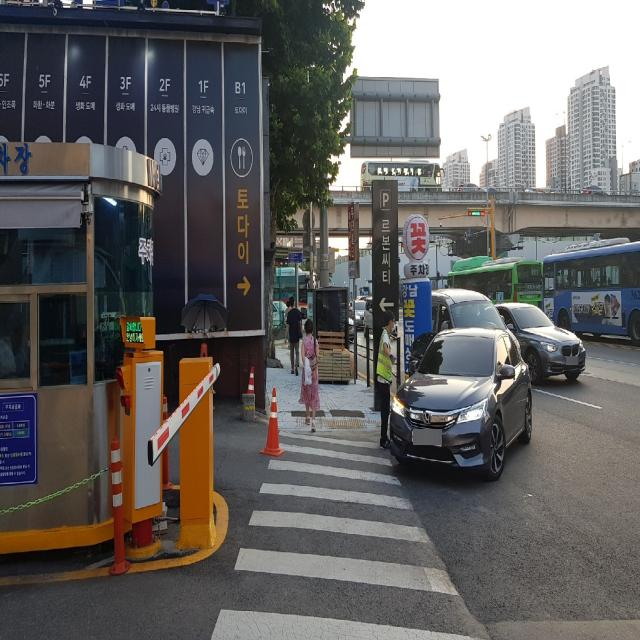횡단보도: (210, 431, 484, 640)
